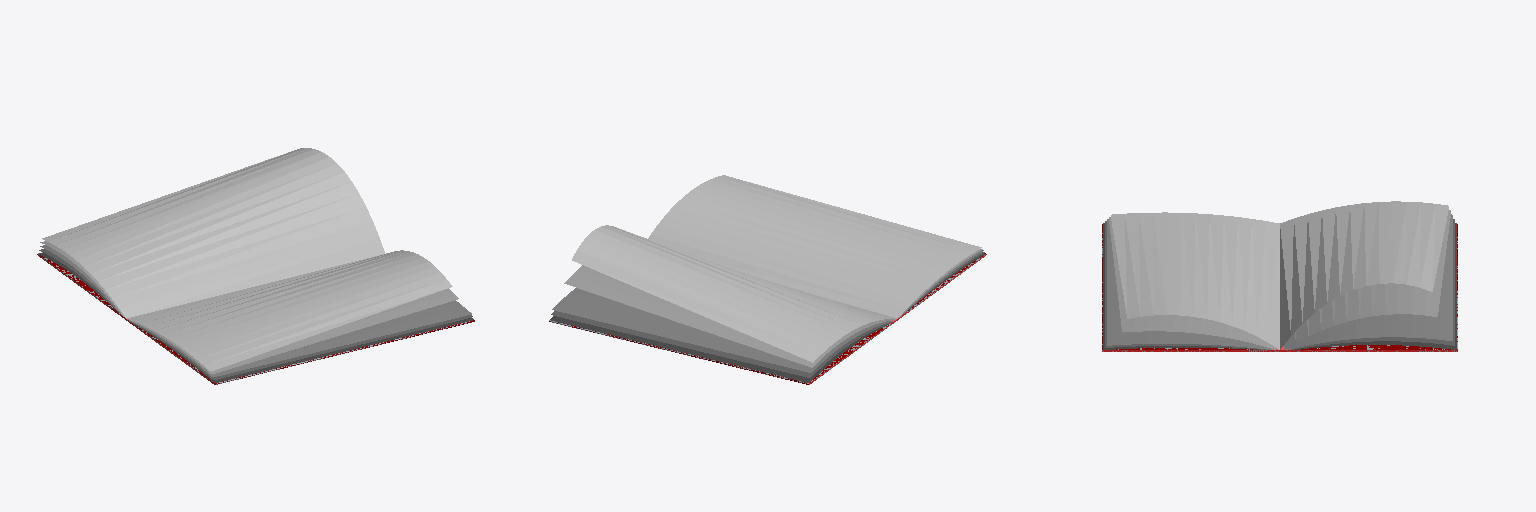
File: Book.obj
The picture shows the model from 3 angles: view 1: azimuth 30°, elevation 25°; view 2: azimuth 150°, elevation 25°; view 3: azimuth 270°, elevation 25°; orthographic projection.
Visible parts, largest first — view 1: Mesh1 Model; view 2: Mesh1 Model; view 3: Mesh1 Model.
Part boxes in pixels (x1,y1,x2,y2): Mesh1 Model: (37,148,474,384); Mesh1 Model: (549,175,986,384); Mesh1 Model: (1102,201,1457,351).
Bounding box in the file's own units: 418 × 101 × 497.